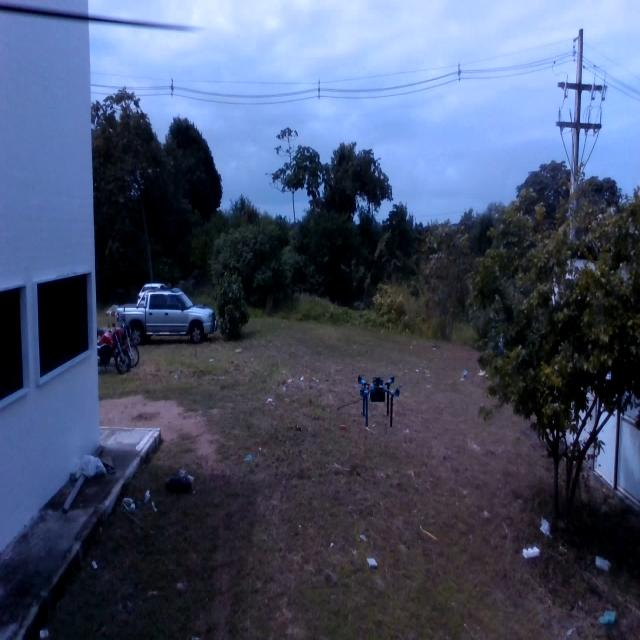-uav-: (354, 363, 408, 449)
